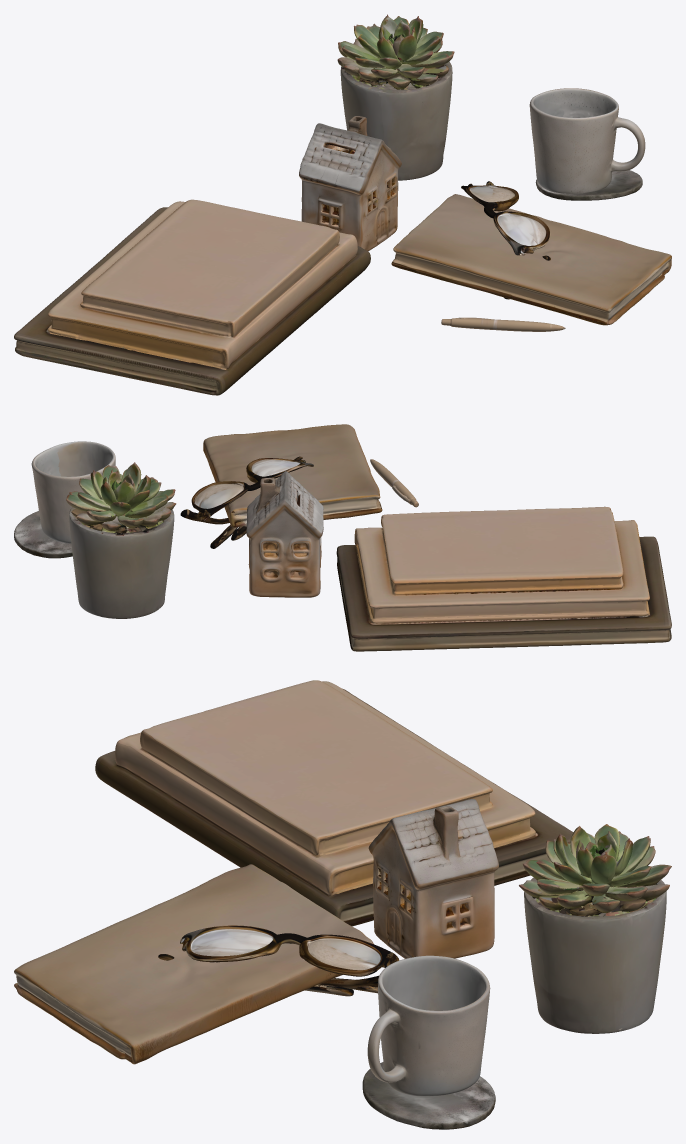
Rendered from simfoundry.glb.
3 views of the same model, one above another, from view 1: azimuth 30°, elevation 25°; view 2: azimuth 150°, elevation 25°; view 3: azimuth 270°, elevation 25° (orthographic). The views are drawn at different scales.
Parts seen in each view (by area): view 1: stacked_beige_books_gbyvoy_link_iter_3_canonical_mesh_obj, beige_fabric_notebook_hjykyi_link_iter_2_canonical_mesh_obj, potted_succulent_zvzcbg_link_iter_7_canonical_mesh_obj, white_ceramic_house_gqrozp_link_iter_4_canonical_mesh_obj, gray_mug_wcwphr_link_iter_5_canonical_mesh_obj, black_eyeglasses_fioyno_link_iter_1_canonical_mesh_obj, gray_stone_coaster_bmnhtp_link_iter_6_canonical_mesh_obj, silver_pen_yfusmj_link_iter_0_canonical_mesh_obj; view 2: stacked_beige_books_gbyvoy_link_iter_3_canonical_mesh_obj, potted_succulent_zvzcbg_link_iter_7_canonical_mesh_obj, beige_fabric_notebook_hjykyi_link_iter_2_canonical_mesh_obj, white_ceramic_house_gqrozp_link_iter_4_canonical_mesh_obj, gray_mug_wcwphr_link_iter_5_canonical_mesh_obj, black_eyeglasses_fioyno_link_iter_1_canonical_mesh_obj, gray_stone_coaster_bmnhtp_link_iter_6_canonical_mesh_obj, silver_pen_yfusmj_link_iter_0_canonical_mesh_obj; view 3: stacked_beige_books_gbyvoy_link_iter_3_canonical_mesh_obj, beige_fabric_notebook_hjykyi_link_iter_2_canonical_mesh_obj, potted_succulent_zvzcbg_link_iter_7_canonical_mesh_obj, white_ceramic_house_gqrozp_link_iter_4_canonical_mesh_obj, gray_mug_wcwphr_link_iter_5_canonical_mesh_obj, black_eyeglasses_fioyno_link_iter_1_canonical_mesh_obj, gray_stone_coaster_bmnhtp_link_iter_6_canonical_mesh_obj.
Boxes of the visible parts, x1,y1,x2,y2 form: stacked_beige_books_gbyvoy_link_iter_3_canonical_mesh_obj: [14, 199, 370, 395]; beige_fabric_notebook_hjykyi_link_iter_2_canonical_mesh_obj: [391, 194, 671, 325]; potted_succulent_zvzcbg_link_iter_7_canonical_mesh_obj: [337, 14, 454, 180]; white_ceramic_house_gqrozp_link_iter_4_canonical_mesh_obj: [299, 116, 401, 251]; gray_mug_wcwphr_link_iter_5_canonical_mesh_obj: [529, 88, 645, 193]; black_eyeglasses_fioyno_link_iter_1_canonical_mesh_obj: [461, 181, 550, 299]; gray_stone_coaster_bmnhtp_link_iter_6_canonical_mesh_obj: [535, 170, 642, 200]; silver_pen_yfusmj_link_iter_0_canonical_mesh_obj: [441, 317, 565, 331]; stacked_beige_books_gbyvoy_link_iter_3_canonical_mesh_obj: [336, 506, 671, 651]; potted_succulent_zvzcbg_link_iter_7_canonical_mesh_obj: [66, 462, 176, 618]; beige_fabric_notebook_hjykyi_link_iter_2_canonical_mesh_obj: [203, 424, 382, 527]; white_ceramic_house_gqrozp_link_iter_4_canonical_mesh_obj: [246, 471, 323, 597]; gray_mug_wcwphr_link_iter_5_canonical_mesh_obj: [31, 441, 115, 543]; black_eyeglasses_fioyno_link_iter_1_canonical_mesh_obj: [180, 456, 313, 548]; gray_stone_coaster_bmnhtp_link_iter_6_canonical_mesh_obj: [14, 511, 72, 558]; silver_pen_yfusmj_link_iter_0_canonical_mesh_obj: [370, 459, 418, 507]; stacked_beige_books_gbyvoy_link_iter_3_canonical_mesh_obj: [95, 680, 573, 926]; beige_fabric_notebook_hjykyi_link_iter_2_canonical_mesh_obj: [14, 864, 373, 1064]; potted_succulent_zvzcbg_link_iter_7_canonical_mesh_obj: [519, 824, 671, 1033]; white_ceramic_house_gqrozp_link_iter_4_canonical_mesh_obj: [368, 798, 498, 958]; gray_mug_wcwphr_link_iter_5_canonical_mesh_obj: [367, 955, 490, 1096]; black_eyeglasses_fioyno_link_iter_1_canonical_mesh_obj: [158, 925, 399, 996]; gray_stone_coaster_bmnhtp_link_iter_6_canonical_mesh_obj: [362, 1062, 495, 1129].
Size of what is drawn, in the model's own units: 0.7571 by 0.1668 by 0.5163.
Materials: 8 (8 with a texture image).
